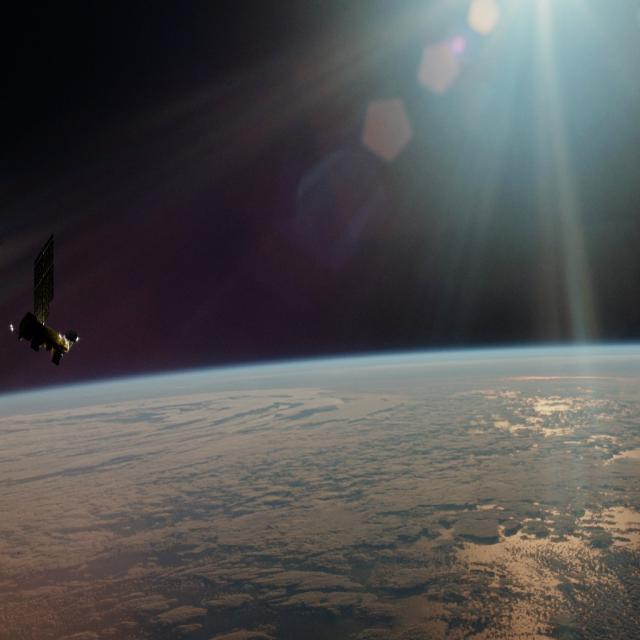medium_debris: (16, 227, 83, 372)
